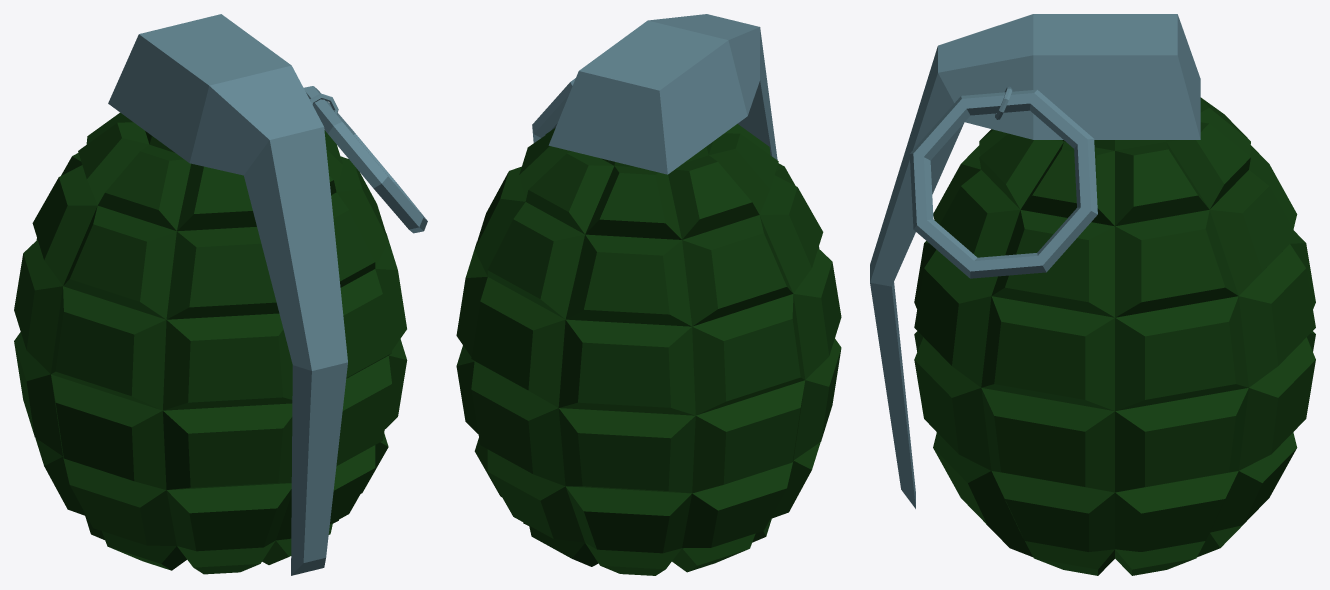
File: granade_-_low_poly.glb
The picture shows the model from 3 angles, left to right: view 1: azimuth 30°, elevation 25°; view 2: azimuth 150°, elevation 25°; view 3: azimuth 270°, elevation 25°; orthographic projection. The views are drawn at different scales.
Visible parts, largest first — view 1: Sphere; view 2: Sphere; view 3: Sphere.
Part boxes in pixels (bbox=[...]): Sphere: bbox=[14, 14, 427, 575]; Sphere: bbox=[456, 14, 841, 575]; Sphere: bbox=[870, 14, 1315, 575].
Size of the model in its own units: 2.12 by 2.93 by 2.36.
